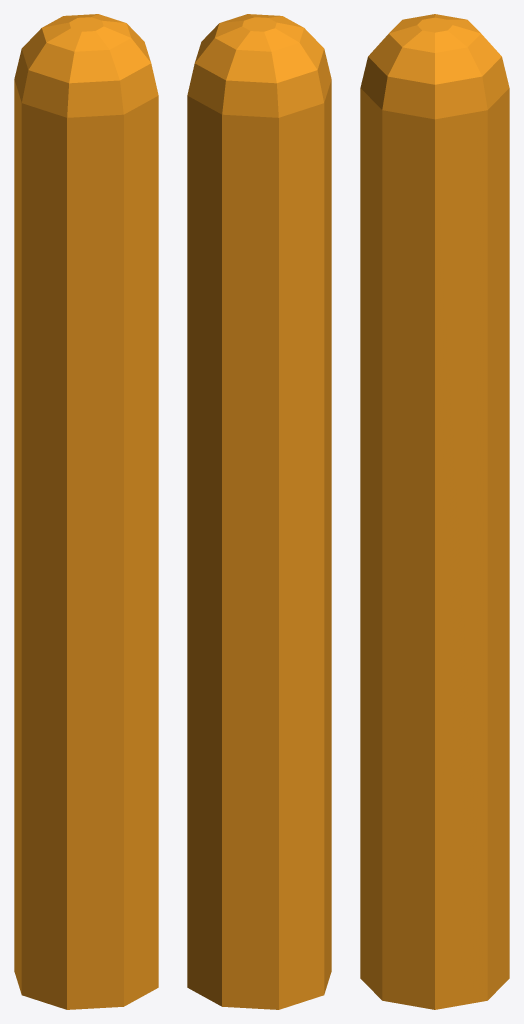
Rendered from Traffic Barrier_2.fbx.
3 views of the same model, side by side, from view 1: azimuth 30°, elevation 25°; view 2: azimuth 150°, elevation 25°; view 3: azimuth 270°, elevation 25° (orthographic).
Visible parts, largest first — view 1: Traffic Barrier_2; view 2: Traffic Barrier_2; view 3: Traffic Barrier_2.
Boxes of the visible parts, bbox=[...] form: Traffic Barrier_2: bbox=[14, 14, 158, 1009]; Traffic Barrier_2: bbox=[187, 14, 331, 1009]; Traffic Barrier_2: bbox=[360, 14, 509, 1009].
Size of the model in its own units: 21.61 by 152 by 21.61.
